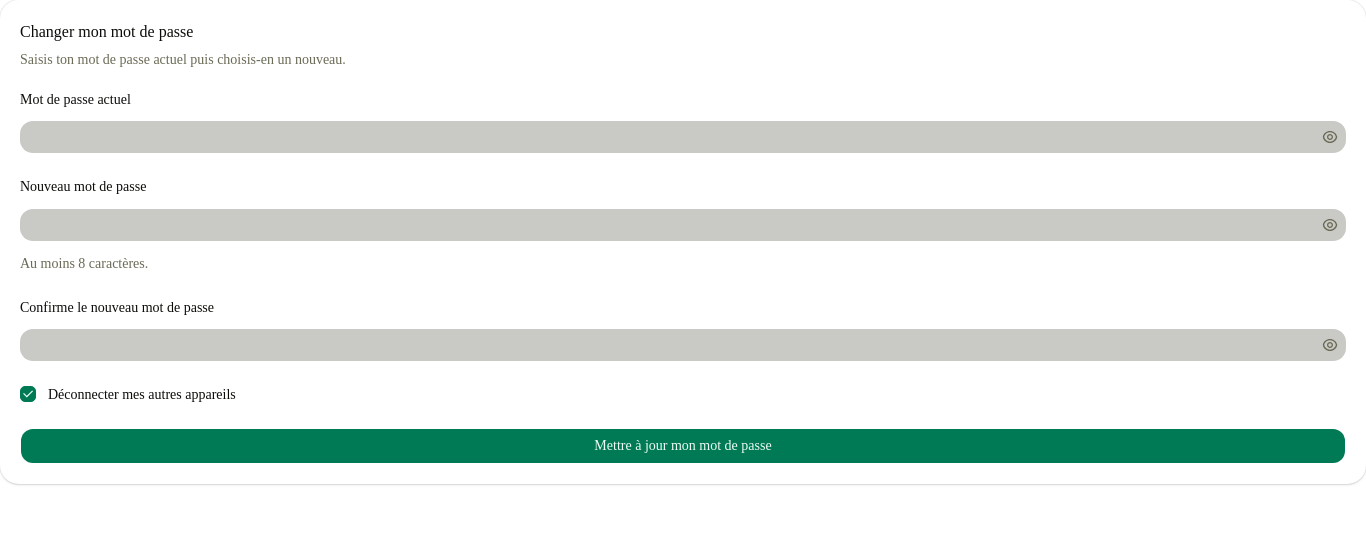
it: ChangePasswordForm › rejects non-matching new passwords
The width and height of the screenshot is (1366, 534).
Type "old-password" into the password field labelled "Mot de passe actuel" at (669, 137), box [21,121,1318,153]
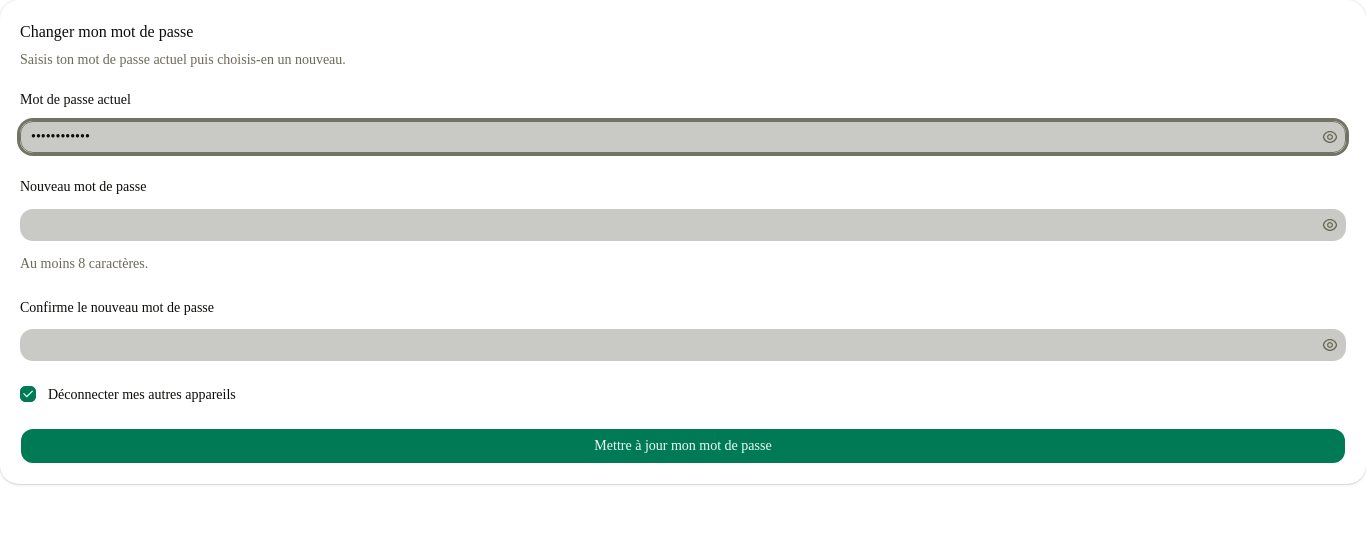
Type "new-password-1" into the password field labelled "Nouveau mot de passe" at (669, 224), box [21,208,1318,240]
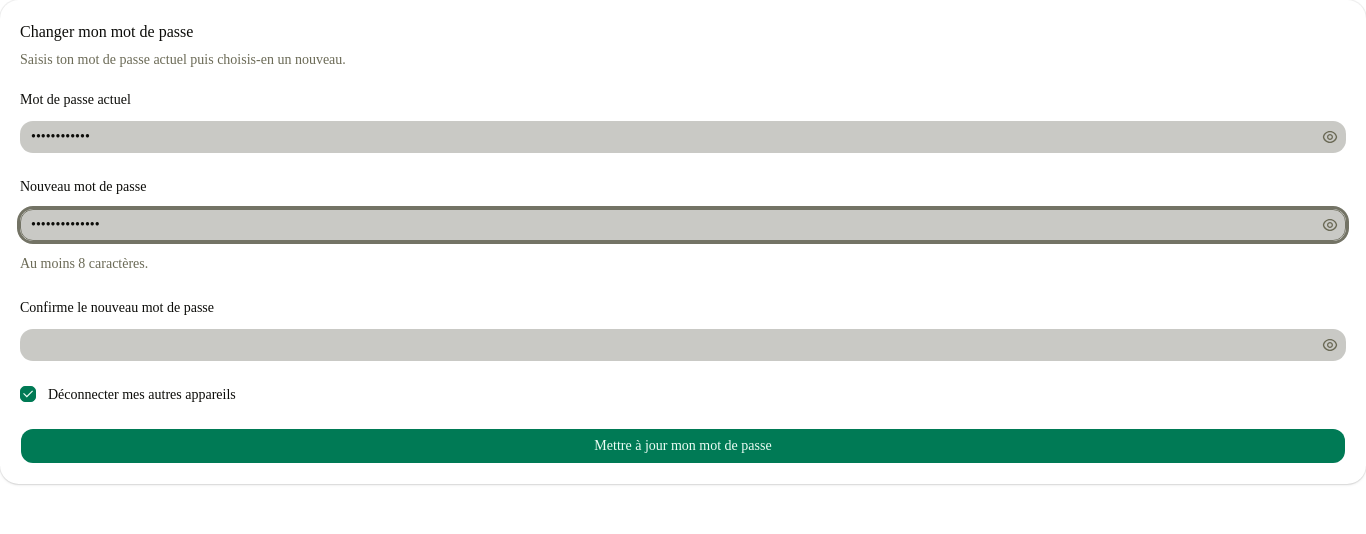
Type "new-password-2" into the password field labelled "Confirme le nouveau mot de passe" at (669, 345), box [21,329,1318,361]
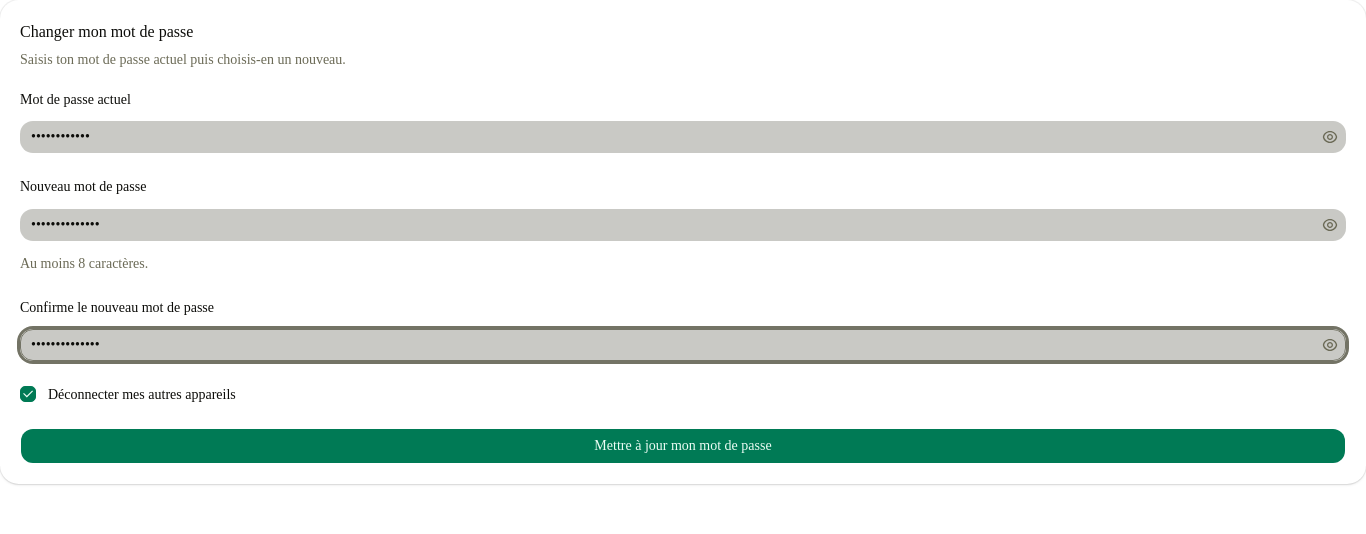
Click the button "Mettre à jour mon mot de passe" at (683, 446), box [20,428,1346,464]
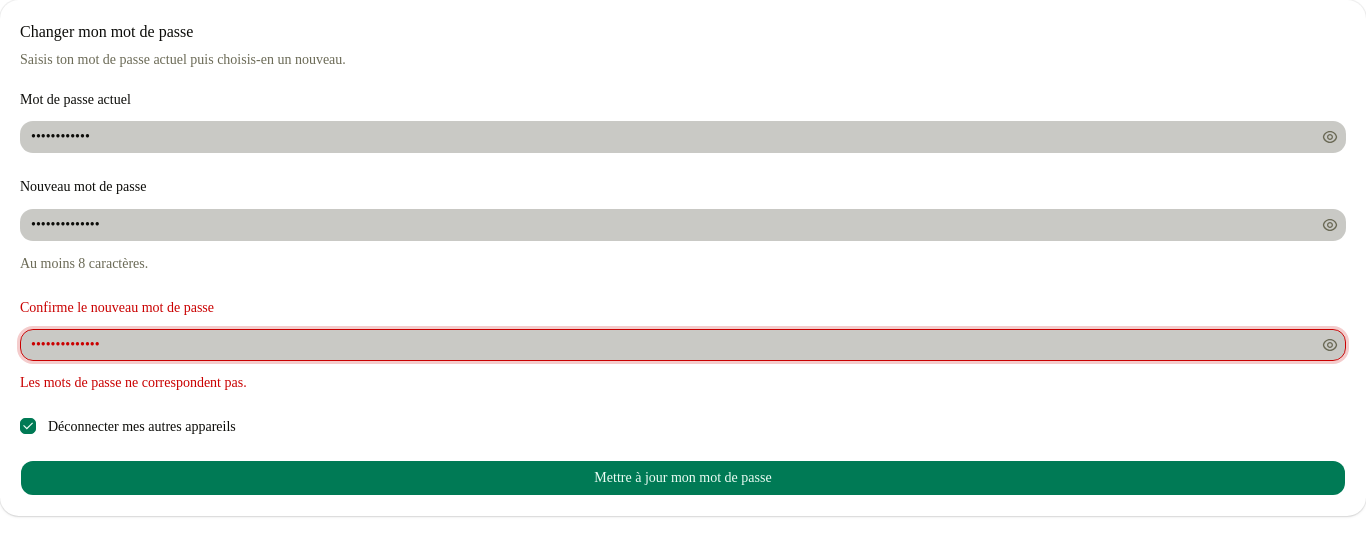
Now the text "Les mots de passe ne correspondent pas." is shown, box [20,375,247,390]
